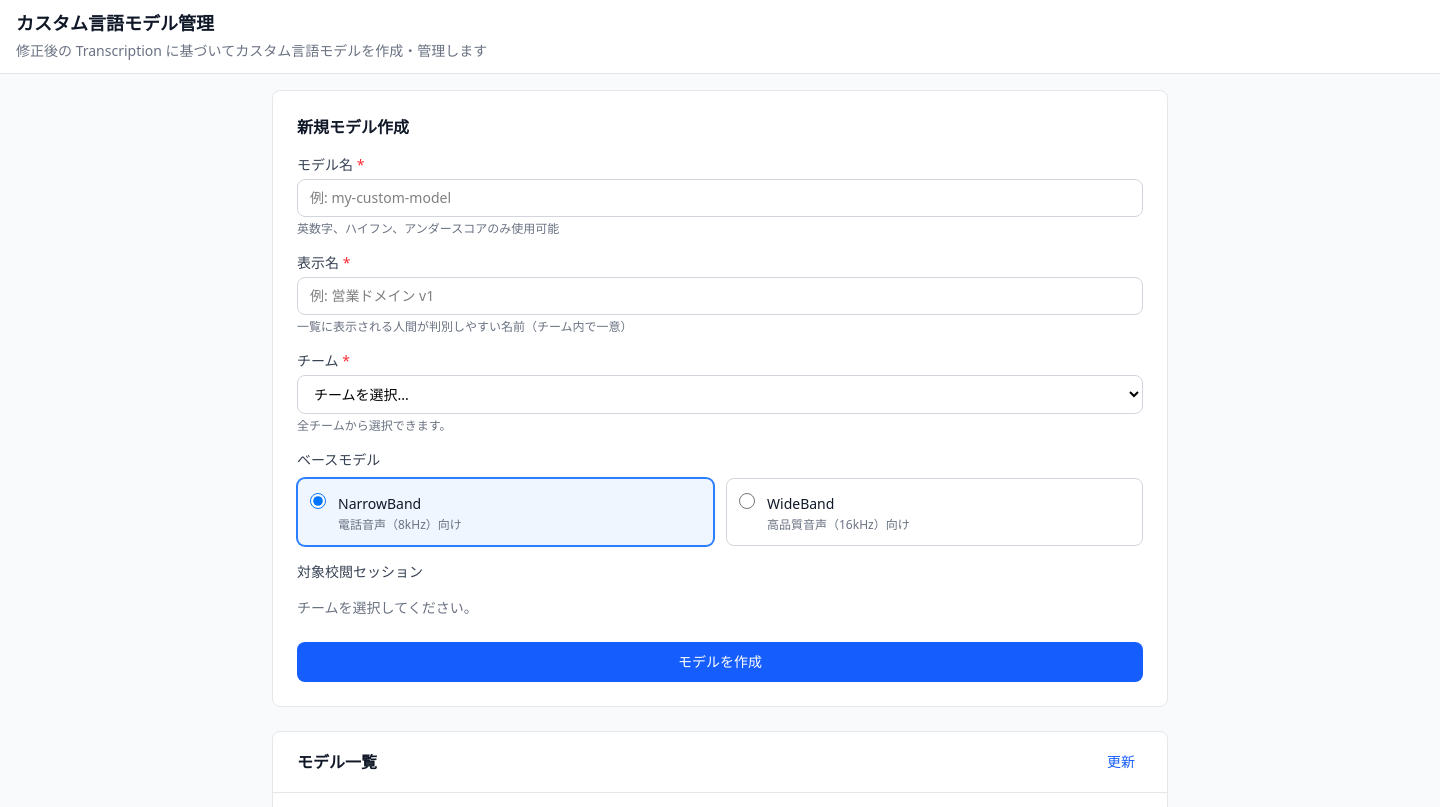
Scenario: LanguageModelPage › source-session team-match candidate filtering › falls back to an empty candidate set when assignment fetch fails
The width and height of the screenshot is (1440, 807).
Select "チームA" in the dropdown labelled "チーム *" at (720,394), box 297,375 -> 1143,414
(page scrolled)
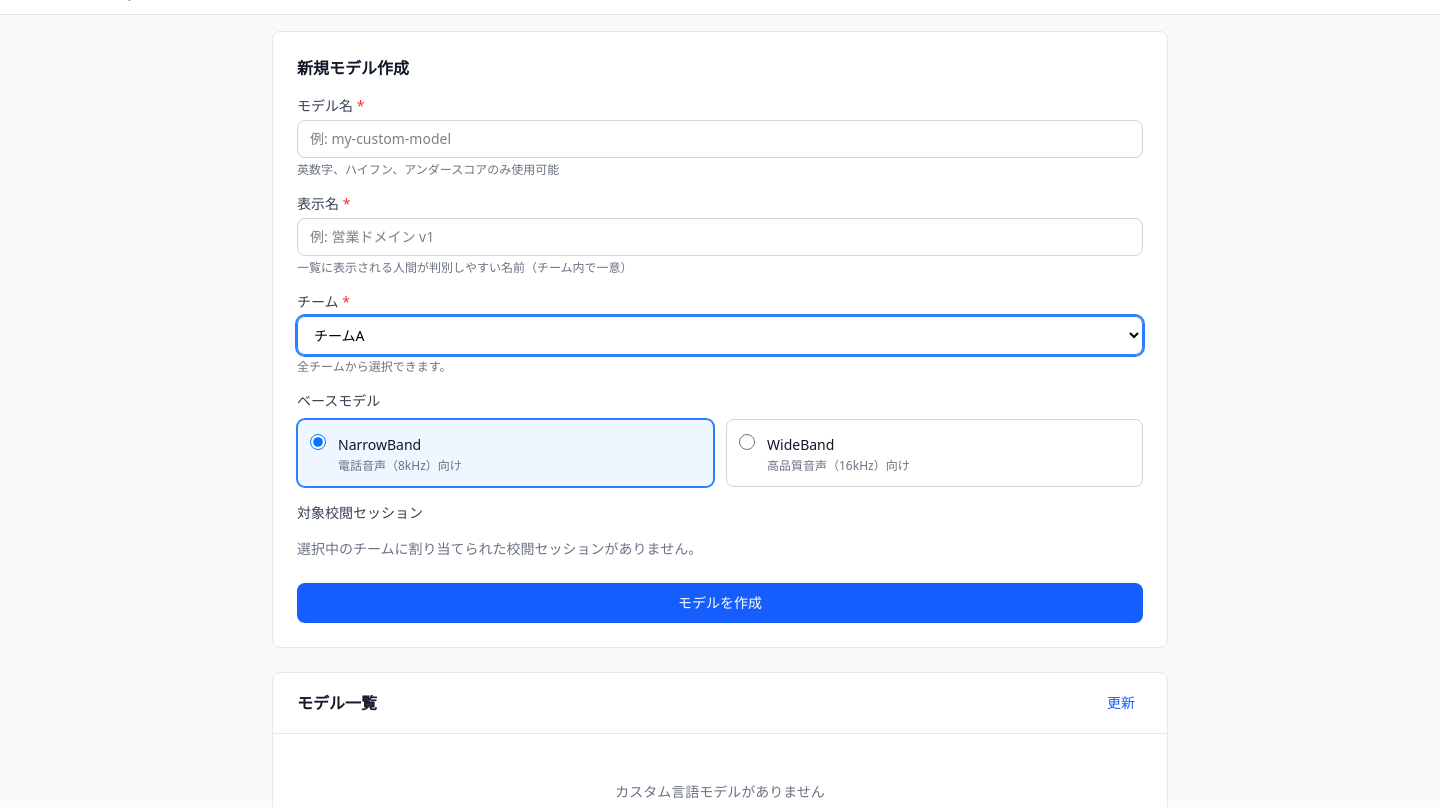
Check: the text "選択中のチームに割り当てられた校閲セッションがありません。" is shown, box 297,539 -> 702,558
